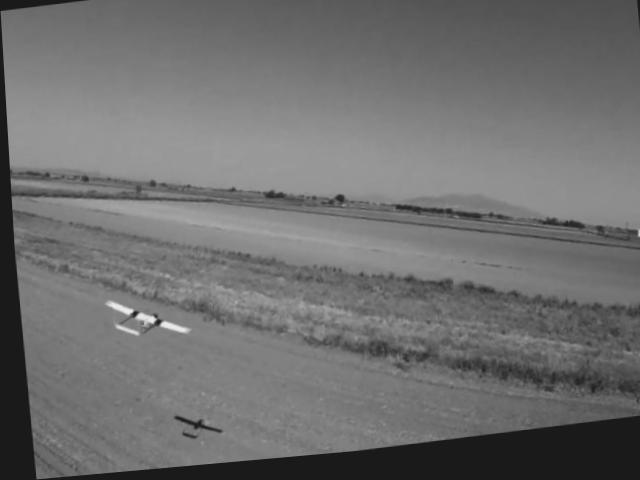hedef: (95, 285, 192, 357)
